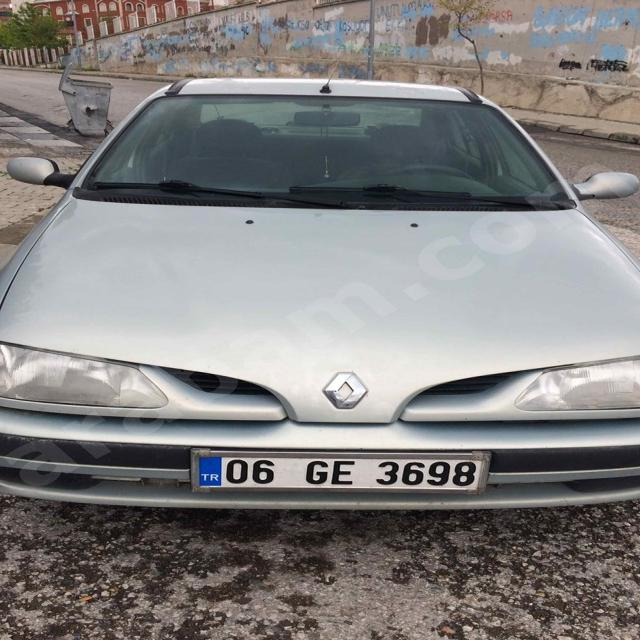license_plate: (196, 456, 483, 490)
